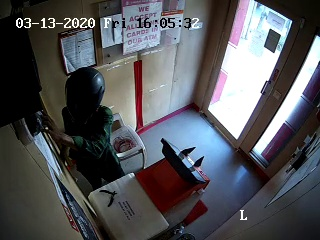helmet: (49, 66, 112, 124)
